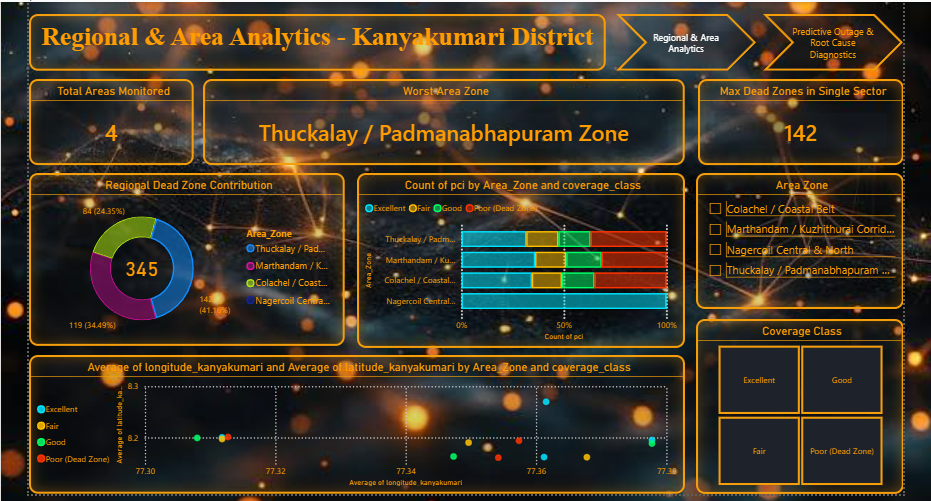

The dashboard page shown, as its layout file describes it:
{"tool":"powerbi","page":{"name":"Regional & Area Analytics","canvas":[1280,720],"ordinal":2},"visuals":[{"type":"textbox","box":[0,17.6,844.4,83.4],"z":0},{"type":"cardVisual","title":"Total Areas Monitored","fields":{"Data":["Count(processed_drive_test.Area_Zone)"]},"box":[0,112.7,241.5,125.9],"z":1000},{"type":"cardVisual","title":"Worst Area Zone","fields":{"Data":["processed_drive_test.Worst_Area_Zone"]},"box":[254.6,112.7,705.4,125.9],"z":2000},{"type":"cardVisual","title":"Max Dead Zones in Single Sector","fields":{"Data":["processed_drive_test.Max_Dead_Zone_Count"]},"box":[979,112.7,301.5,125.9],"z":3000},{"type":"donutChart","title":"Regional Dead Zone Contribution","fields":{"Category":["processed_drive_test.Area_Zone"],"Y":["Sum(processed_drive_test.is_dead_zone)"]},"box":[0,250.2,462.4,253.2],"z":4000},{"type":"hundredPercentStackedBarChart","fields":{"Category":["processed_drive_test.Area_Zone"],"Series":["processed_drive_test.coverage_class"],"Y":["CountNonNull(processed_drive_test.pci)"]},"box":[480,250.2,480,256.1],"z":5000},{"type":"scatterChart","fields":{"Category":["processed_drive_test.Area_Zone"],"Series":["processed_drive_test.coverage_class"],"X":["Avg(processed_drive_test.longitude_kanyakumari)"],"Y":["Avg(processed_drive_test.latitude_kanyakumari)"]},"box":[0,516.6,960,203.4],"z":6000},{"type":"slicer","title":"Area Zone","fields":{"Values":["processed_drive_test.Area_Zone"]},"box":[976.1,250.2,304.4,199],"z":7000},{"type":"slicer","title":"Coverage Class","fields":{"Values":["processed_drive_test.coverage_class"]},"box":[976.1,463.9,304.4,256.1],"z":8000},{"type":"pageNavigator","box":[859,17.6,421.5,83.4],"z":9000}]}

Visuals, with their boxes in screenshot pixels (x1, y1, x2, y2):
textbox: rect(24, 10, 605, 67)
"Total Areas Monitored" cardVisual: rect(24, 75, 190, 162)
"Worst Area Zone" cardVisual: rect(199, 75, 684, 162)
"Max Dead Zones in Single Sector" cardVisual: rect(697, 75, 904, 162)
"Regional Dead Zone Contribution" donutChart: rect(24, 170, 342, 344)
hundredPercentStackedBarChart - processed_drive_test.Area_Zone x processed_drive_test.coverage_class: rect(354, 170, 684, 346)
scatterChart - processed_drive_test.Area_Zone x processed_drive_test.coverage_class: rect(24, 353, 684, 493)
"Area Zone" slicer: rect(695, 170, 904, 306)
"Coverage Class" slicer: rect(695, 316, 904, 493)
pageNavigator: rect(615, 10, 904, 67)
